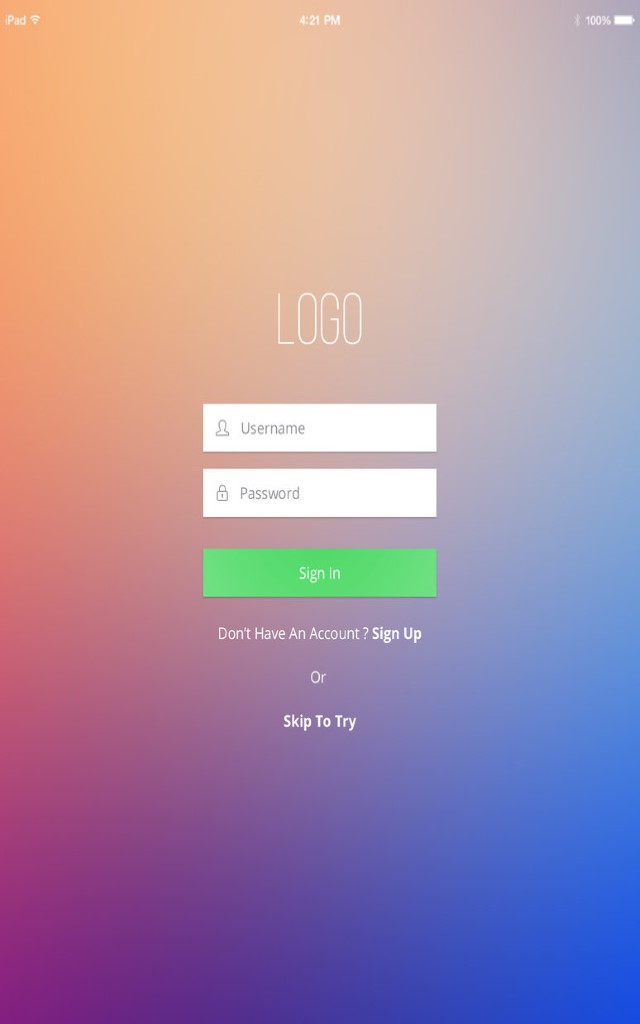button: (205, 547, 436, 597)
button_SignIn: (205, 546, 438, 596)
label_SignIn: (295, 563, 344, 585)
label_Username: (241, 417, 309, 438)
label_password: (239, 482, 306, 505)
textbox: (234, 469, 436, 517), (234, 407, 436, 450)
textbox_Password: (203, 467, 438, 521)
textbox_username: (202, 402, 438, 450)
